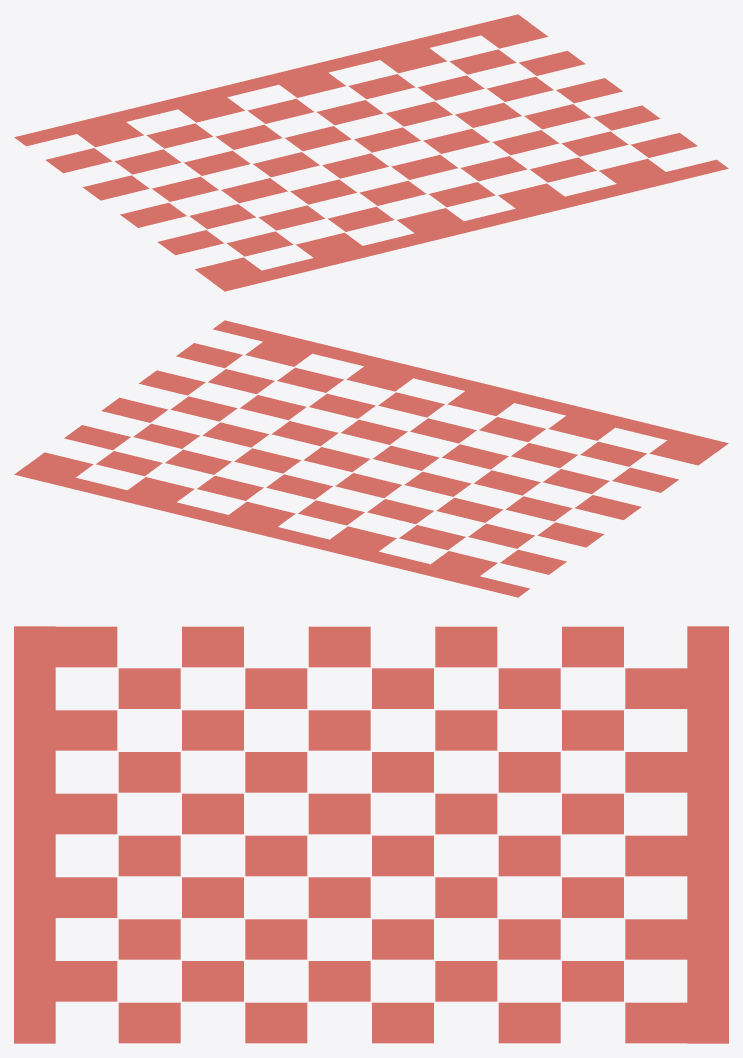
The model's file is Finish_Line_.glb.
3 views of the same model, one above another, from view 1: azimuth 30°, elevation 25°; view 2: azimuth 150°, elevation 25°; view 3: azimuth 270°, elevation 25° (orthographic). The views are drawn at different scales.
Parts seen in each view (by area): view 1: Finish_Line_; view 2: Finish_Line_; view 3: Finish_Line_.
Boxes of the visible parts, x1,y1,x2,y2 form: Finish_Line_: (14, 14, 728, 291); Finish_Line_: (14, 320, 728, 597); Finish_Line_: (14, 626, 728, 1043).
Bounding box in the file's own units: 945 × 0 × 684.
